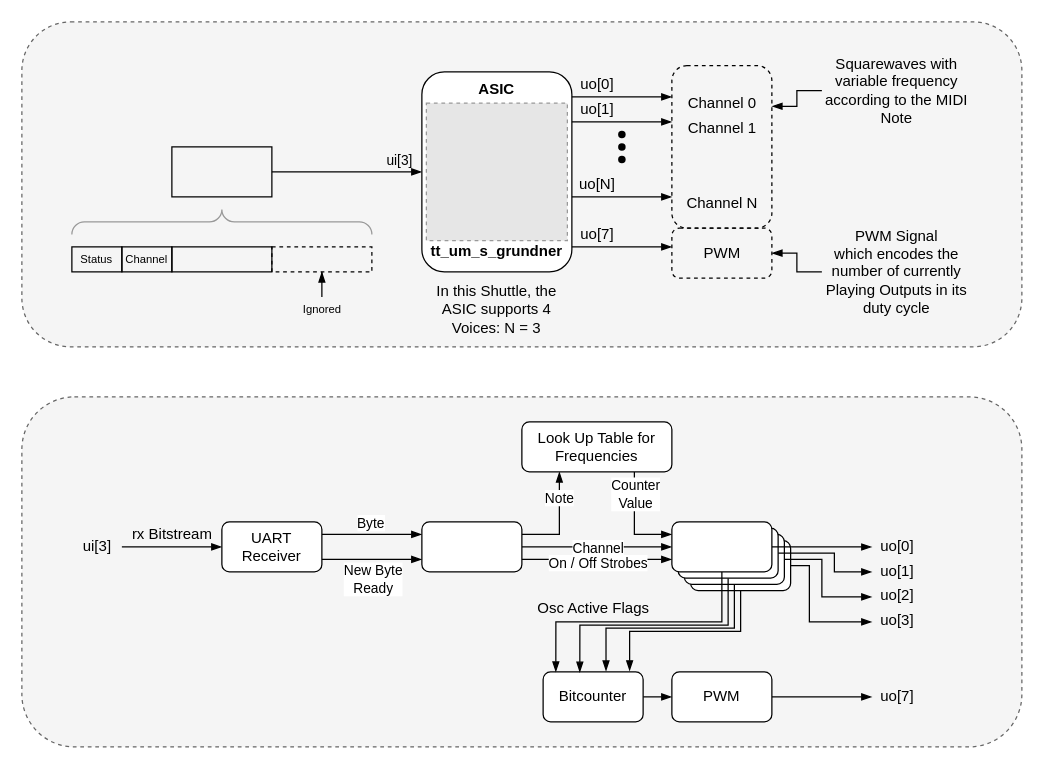
This 1044x769 diagram has some shape labels left out. Grey dashed boxes stand in for pictures. Each missing label, with the centre of its shape:
"External MIDI-Signal" belongs at point 221,171.
"MIDI Decoder" belongs at point 471,546.
"Note Number" belongs at point 221,259.
"Oscillator Stack" belongs at point 721,546.
"Velocity" belongs at point 321,259.
